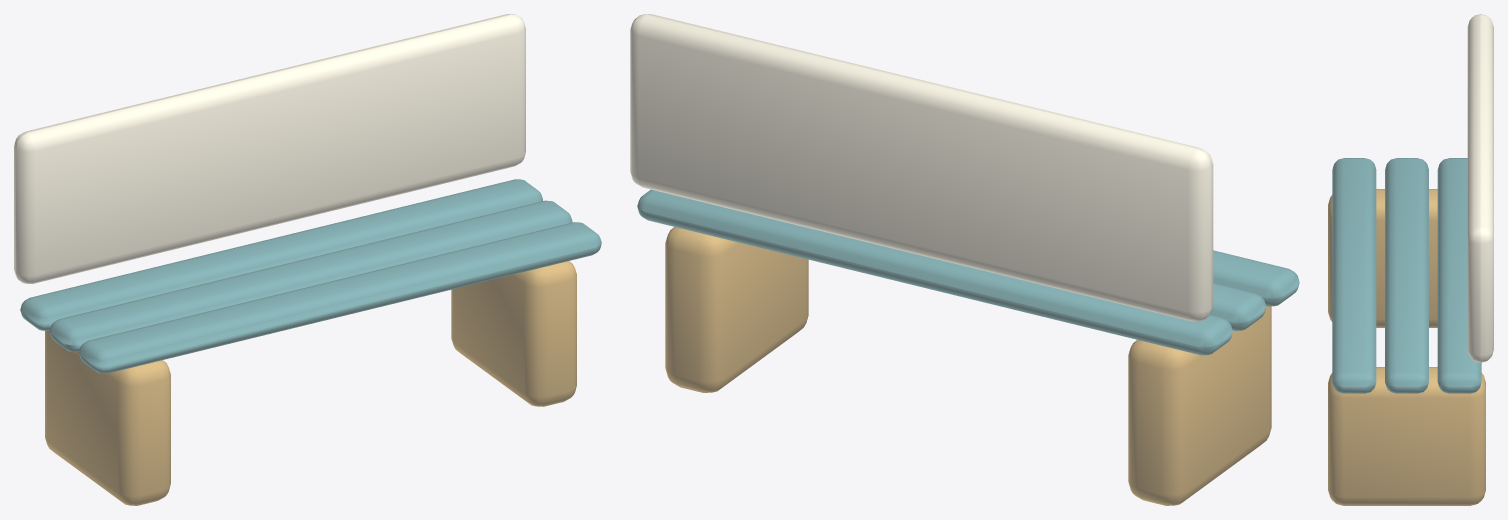
File: sky_bench.glb
3 renders of one model, left to right at view 1: azimuth 30°, elevation 25°; view 2: azimuth 150°, elevation 25°; view 3: azimuth 270°, elevation 25°, orthographic. The views are drawn at different scales.
Parts seen in each view (by area): view 1: sky_bench_surface; view 2: sky_bench_surface; view 3: sky_bench_surface.
Part boxes in pixels (bbox=[...]): sky_bench_surface: bbox=[14, 14, 601, 505]; sky_bench_surface: bbox=[630, 14, 1299, 505]; sky_bench_surface: bbox=[1328, 14, 1493, 505].
Size of the model in its own units: 3 by 1.83 by 0.945.
